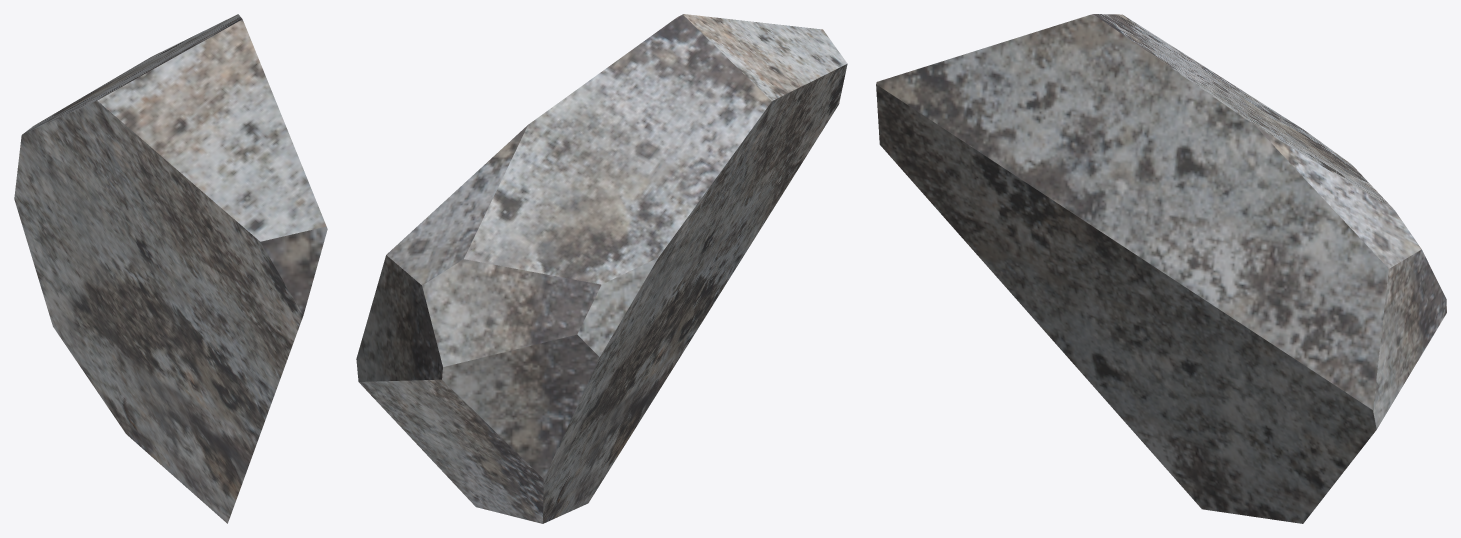
The model's file is Asteroid_Large_001_02_009_03_018.fbx.
3 views of the same model, side by side, from view 1: azimuth 30°, elevation 25°; view 2: azimuth 150°, elevation 25°; view 3: azimuth 270°, elevation 25° (orthographic). The views are drawn at different scales.
Parts seen in each view (by area): view 1: Asteroid_Large_001_02_009_03_018; view 2: Asteroid_Large_001_02_009_03_018; view 3: Asteroid_Large_001_02_009_03_018.
Boxes of the visible parts, x1,y1,x2,y2 form: Asteroid_Large_001_02_009_03_018: (14,14,327,523); Asteroid_Large_001_02_009_03_018: (356,14,847,523); Asteroid_Large_001_02_009_03_018: (876,14,1446,523).
Bounding box in the file's own units: 7.15 × 10.68 × 11.66.
